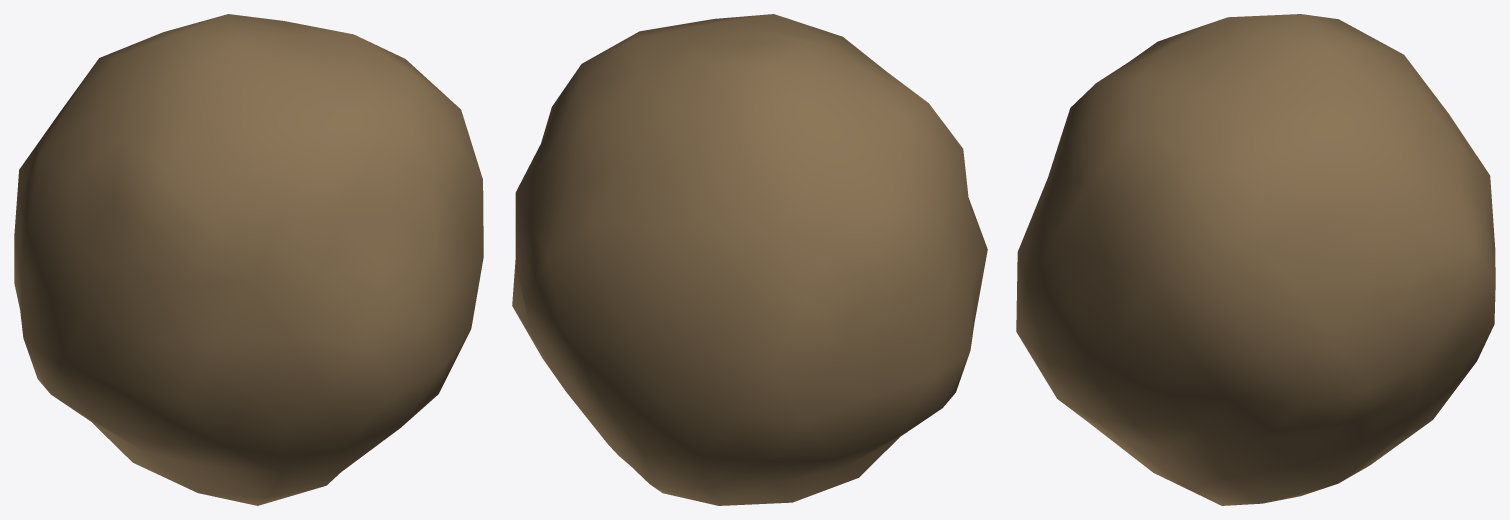
The model's file is Tank.fbx.
3 renders of one model, left to right at view 1: azimuth 30°, elevation 25°; view 2: azimuth 150°, elevation 25°; view 3: azimuth 270°, elevation 25°, orthographic. The views are drawn at different scales.
Parts seen in each view (by area): view 1: Sphere.002; view 2: Sphere.002; view 3: Sphere.002.
Part boxes in pixels (x1,y1,x2,y2): Sphere.002: [14, 14, 483, 505]; Sphere.002: [512, 14, 987, 505]; Sphere.002: [1016, 14, 1495, 505].
Bounding box in the file's own units: 7.44 × 7.65 × 7.43.
